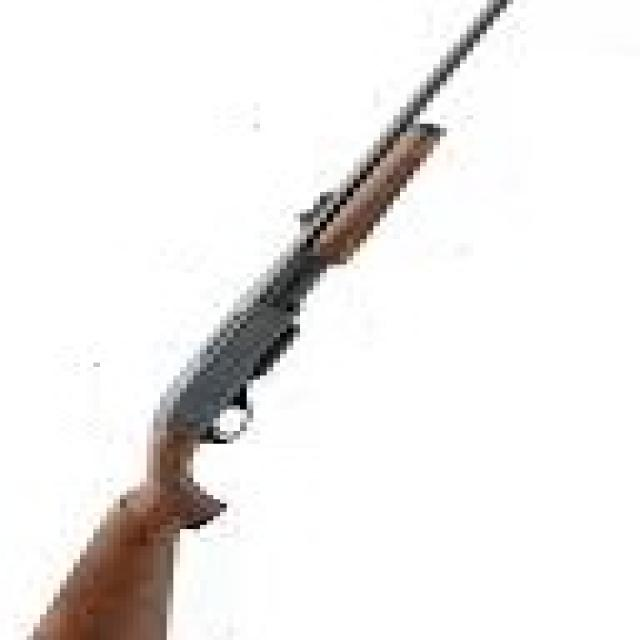rifle: (22, 1, 519, 640)
